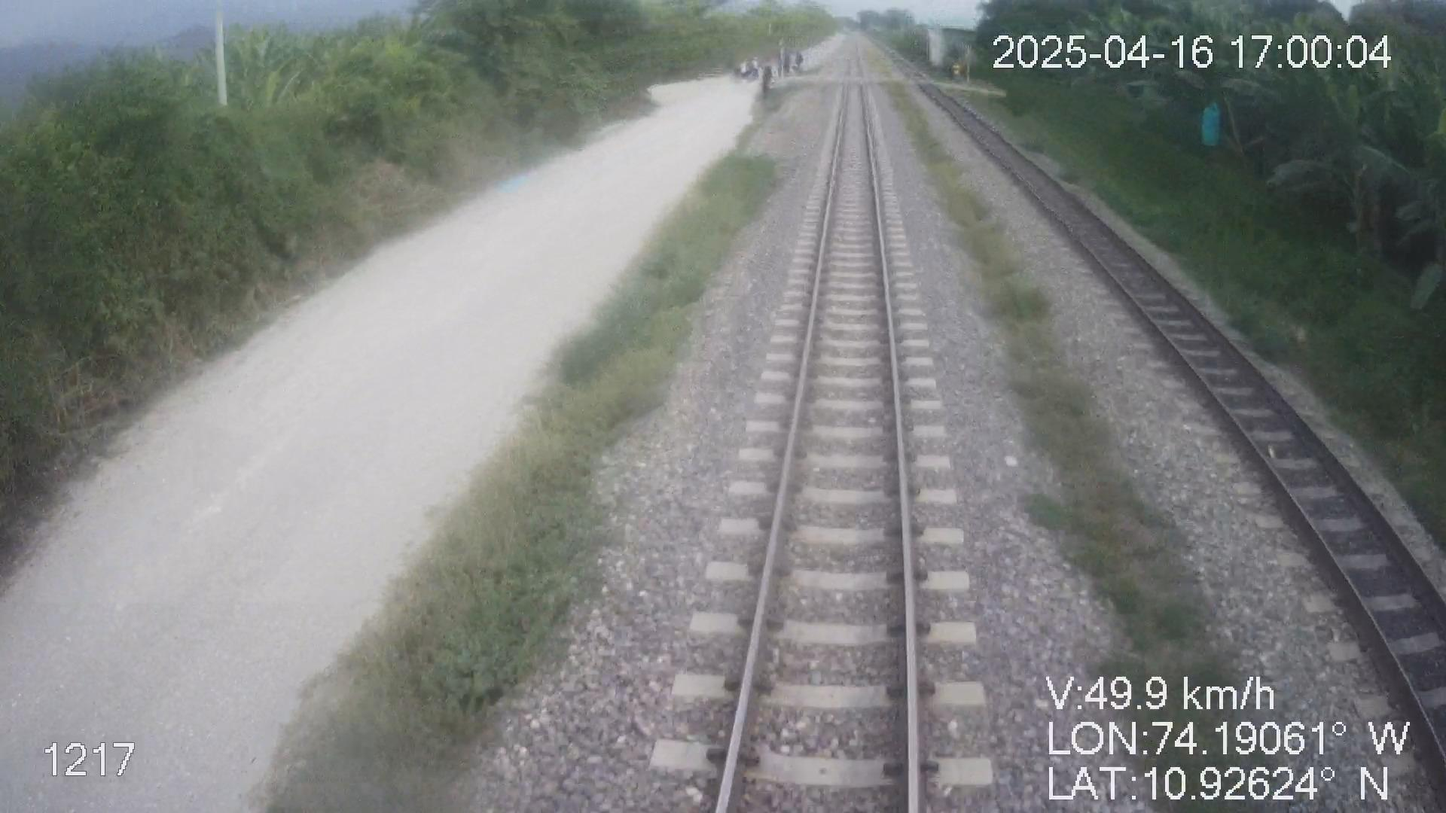Pasto: (0, 0, 836, 562), (900, 0, 1445, 555)
